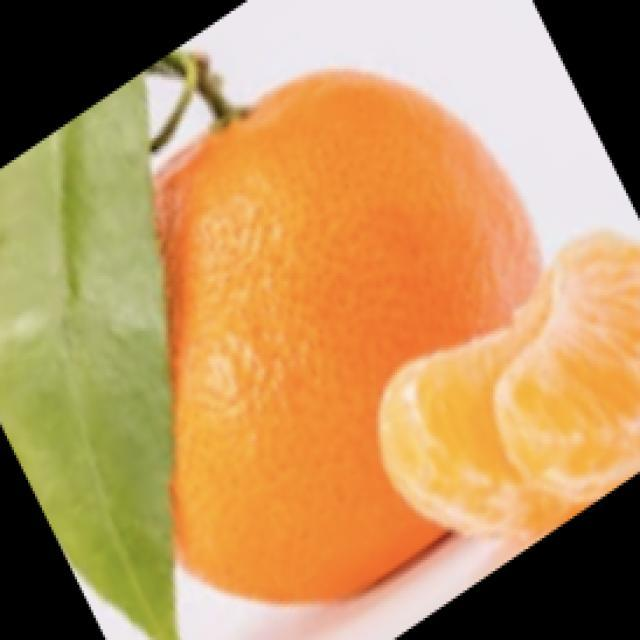Orange: (152, 66, 542, 604), (378, 228, 639, 544)
